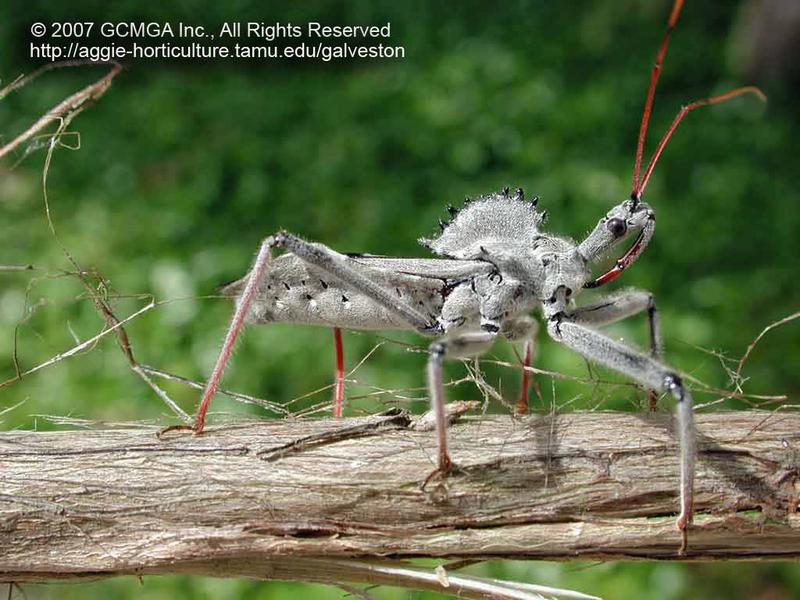Spiny_beetle: (162, 187, 698, 403)
